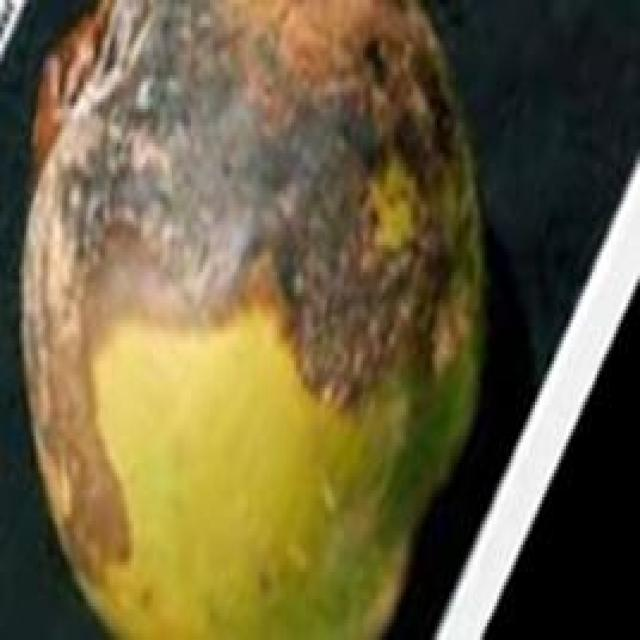damaged: (21, 0, 482, 637)
